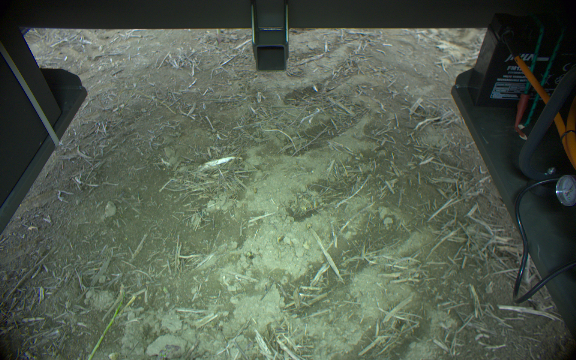aspa: (78, 293, 128, 360)
